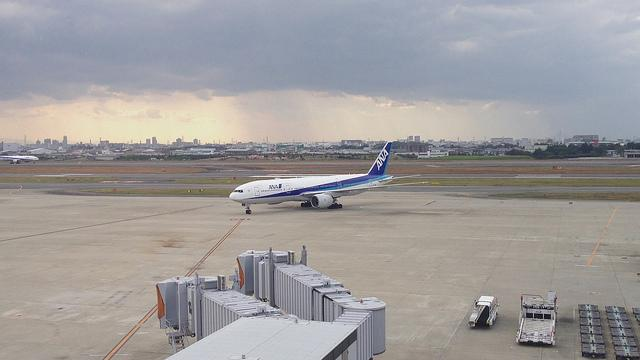airplane: (228, 140, 430, 215), (1, 152, 41, 165)
